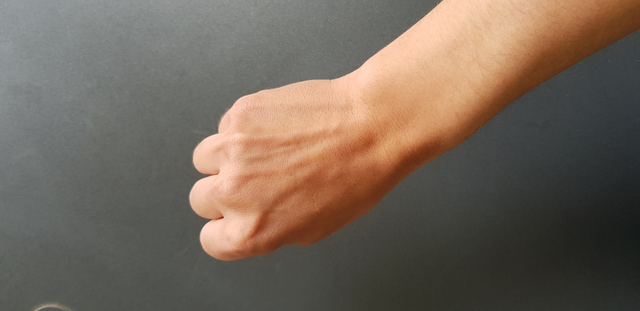Rock: (176, 69, 409, 269)
